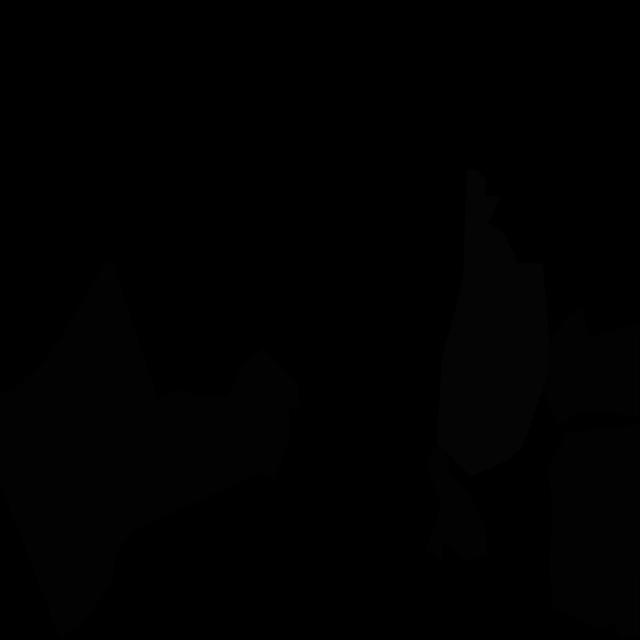cardboard: (0, 260, 300, 638), (547, 424, 640, 637), (542, 306, 640, 426), (425, 444, 487, 562)
soft_plastic: (437, 169, 549, 477)
